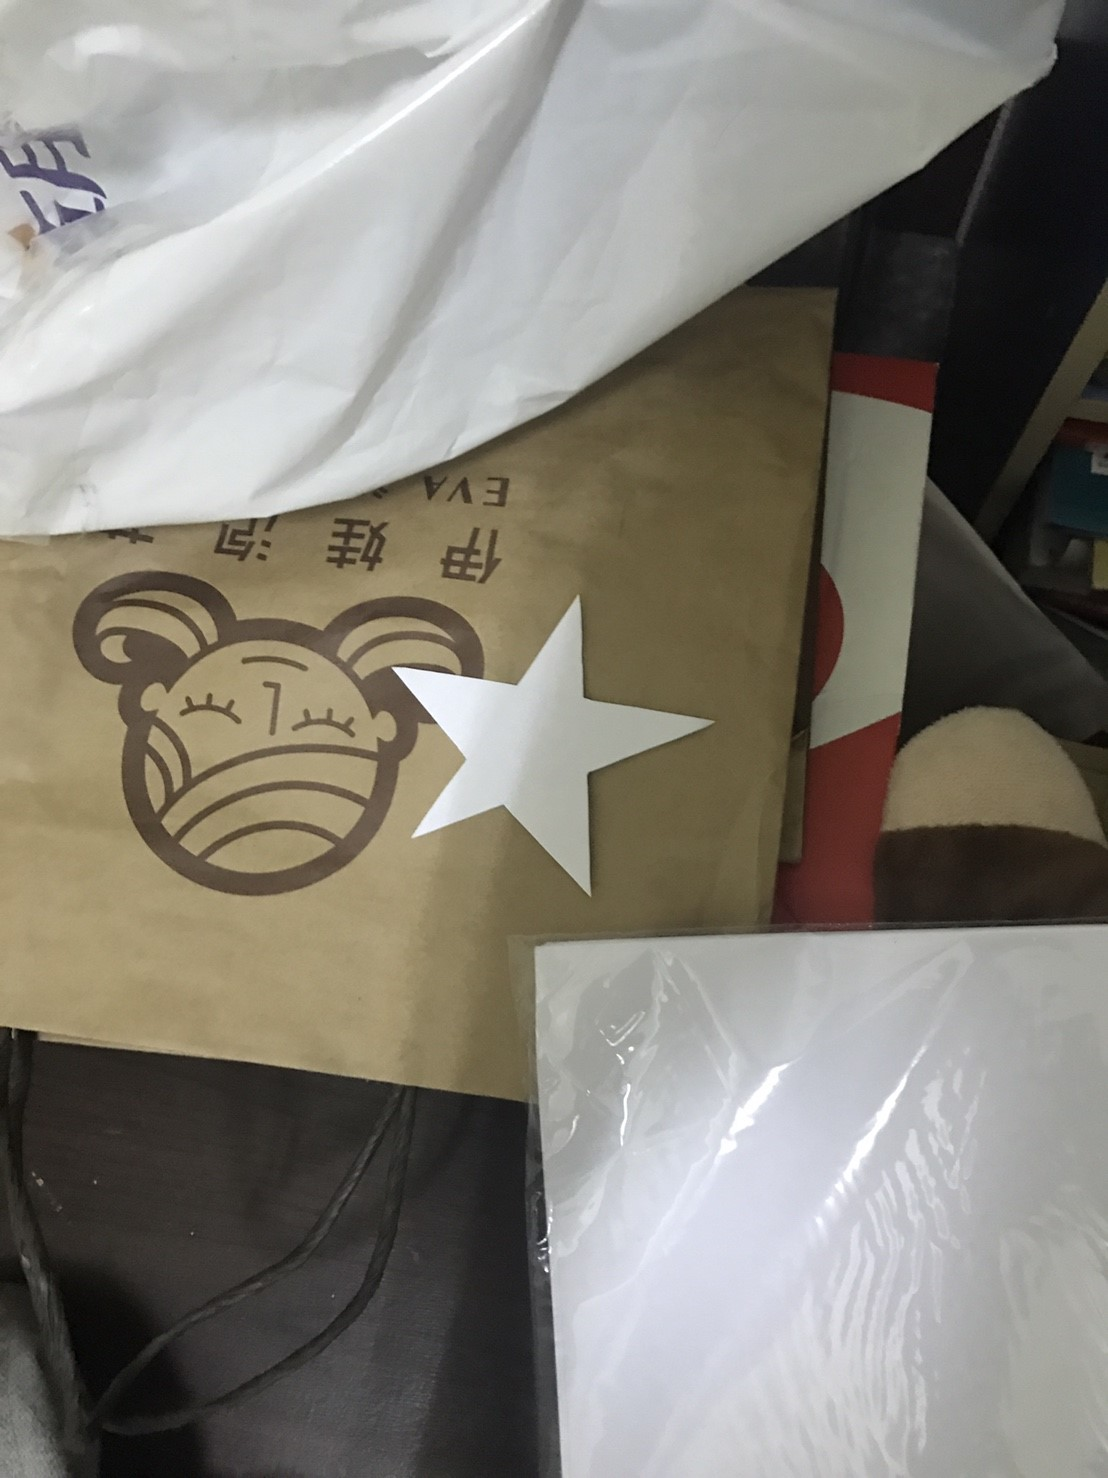star: (372, 590, 725, 907)
